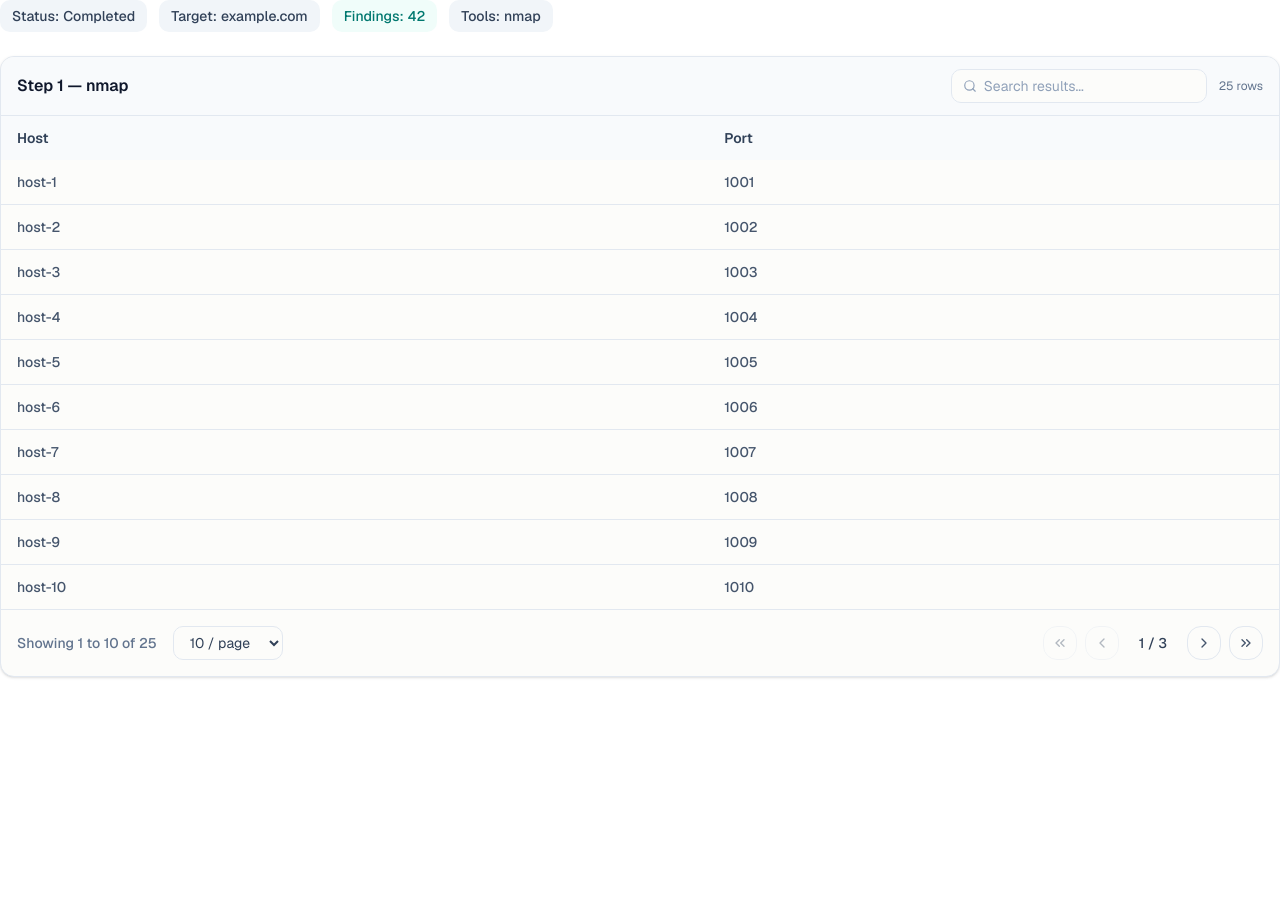
Test: ScanResultsView — pagination requests (Req 5.2, 5.3) › issues a new request and replaces rows when the page changes
Click the button named "Next page": click(1204, 643) [1187,626,1221,660]
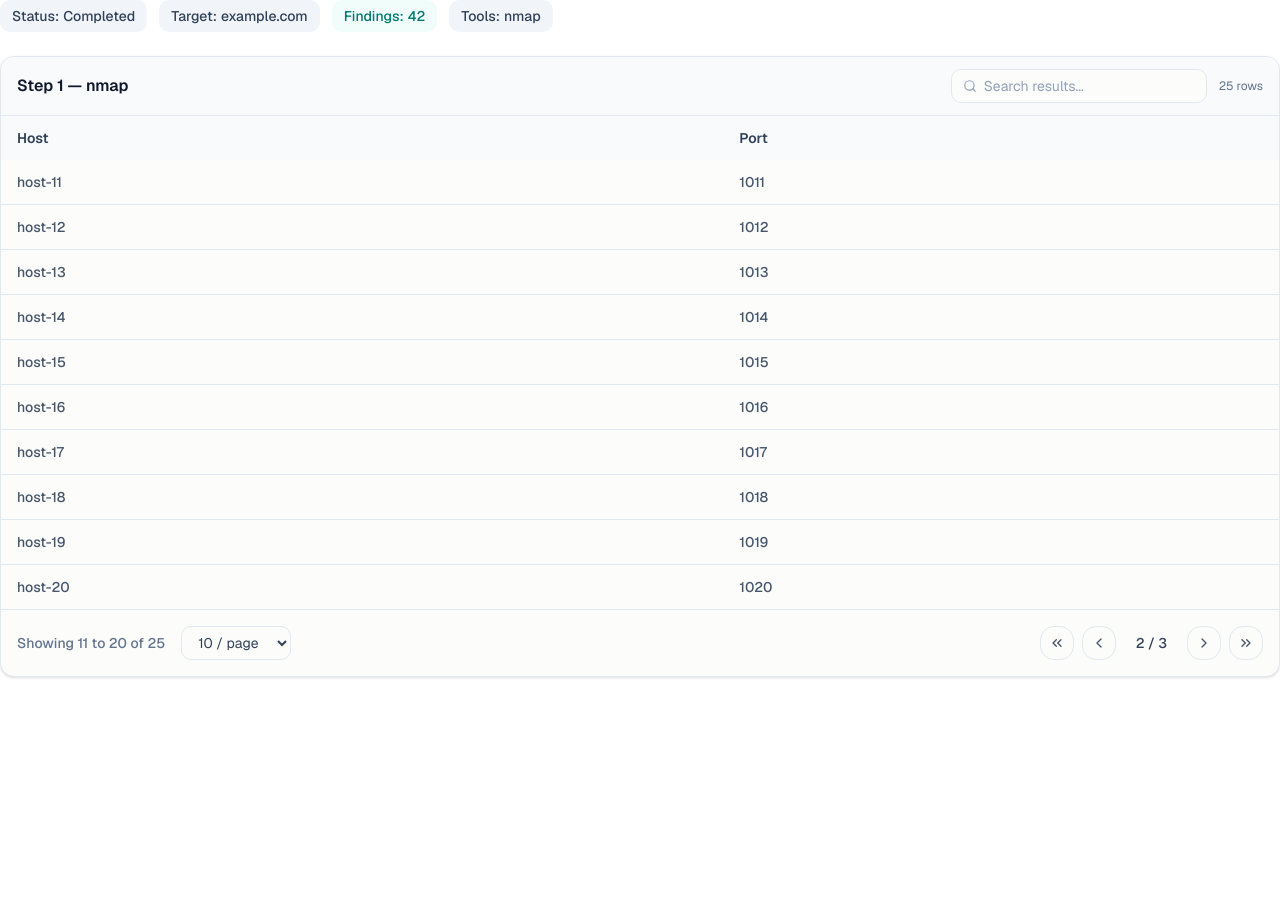
Expected: the text "host-11" is shown, [1,160,723,204]
Expected: the text "2 / 3" is shown, [1136,634,1167,652]
Expected: the text "Showing 11 to 20 of 25" is shown, [17,633,165,653]
